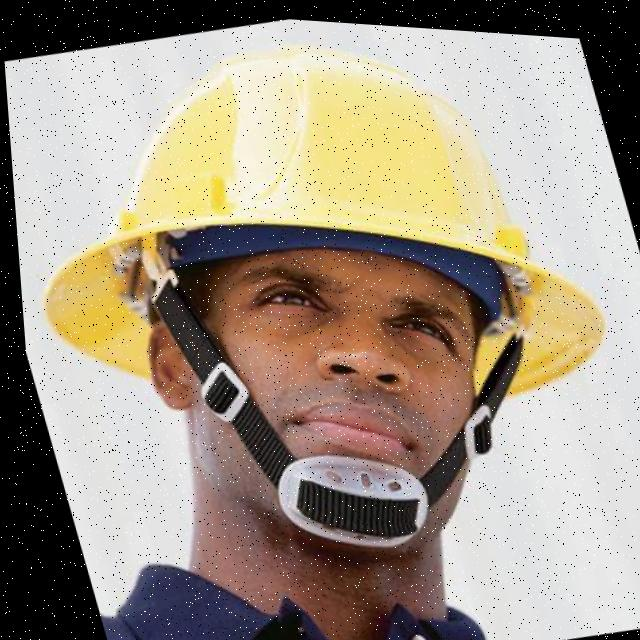illegal_helmet: (0, 0, 640, 626)
